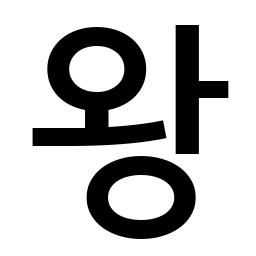Buri: (165, 20, 213, 45)
Gaji: (167, 70, 213, 111)
Sangtu: (107, 153, 175, 182), (66, 24, 126, 54)
